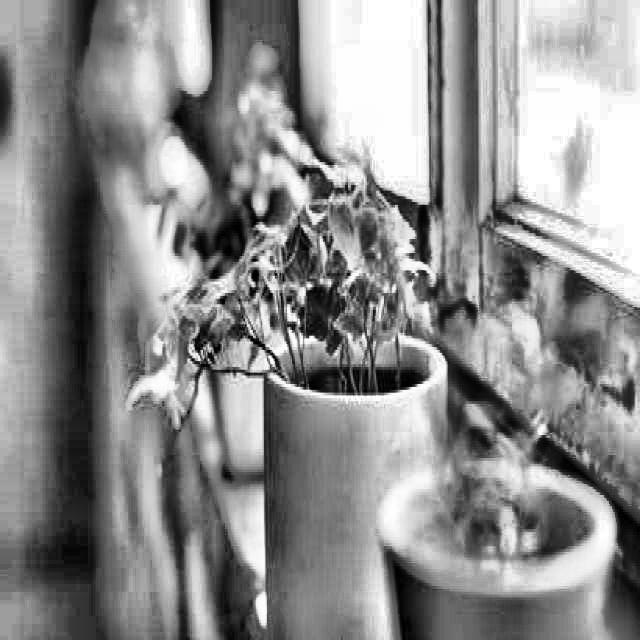plants: (168, 213, 402, 637)
